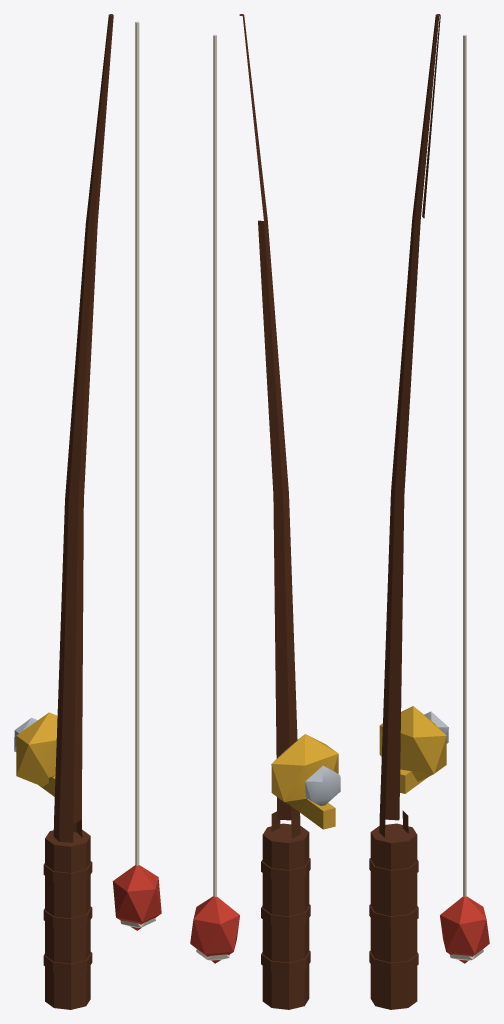
File: fishing_rod.glb
3 views of the same model, side by side, from view 1: azimuth 30°, elevation 25°; view 2: azimuth 210°, elevation 25°; view 3: azimuth 330°, elevation 25° (orthographic). The views are drawn at different scales.
Parts seen in each view (by area): view 1: wpn_fishing_rod_lod0; view 2: wpn_fishing_rod_lod0; view 3: wpn_fishing_rod_lod0.
Boxes of the visible parts, x1,y1,x2,y2 form: wpn_fishing_rod_lod0: (14, 14, 161, 1009); wpn_fishing_rod_lod0: (190, 14, 340, 1009); wpn_fishing_rod_lod0: (369, 14, 489, 1009).
Bounding box in the file's own units: 0.2852 × 2.15 × 0.2168.
